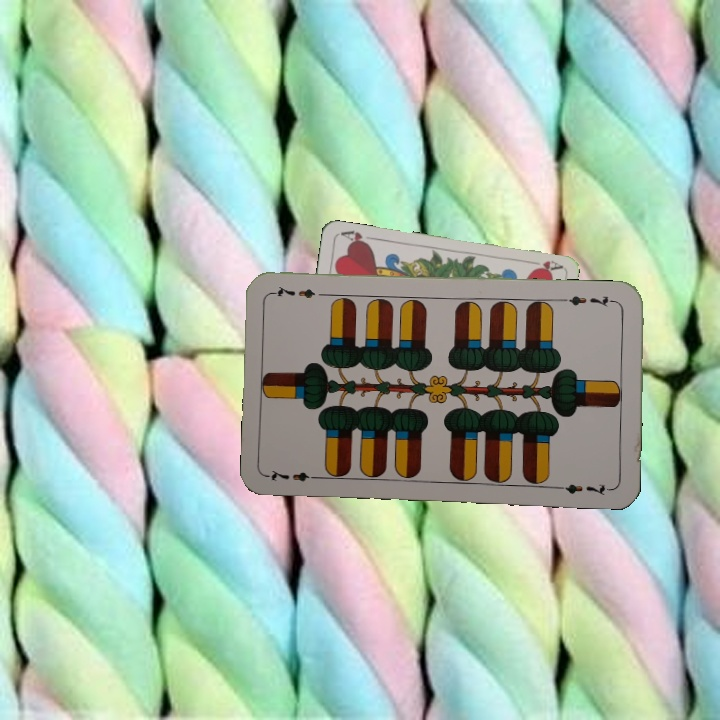E7: (265, 465, 324, 484), (560, 291, 619, 309)
HA: (523, 257, 563, 275)
